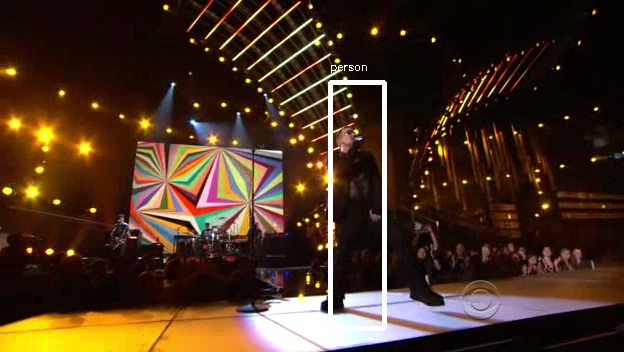person: (321, 125, 387, 240), (318, 125, 384, 240), (324, 125, 390, 240), (321, 122, 387, 237), (321, 128, 387, 243)
target_negative: (30, 220, 510, 327), (311, 4, 454, 319), (147, 87, 506, 134), (444, 190, 537, 296), (482, 138, 613, 156), (34, 324, 72, 352)
